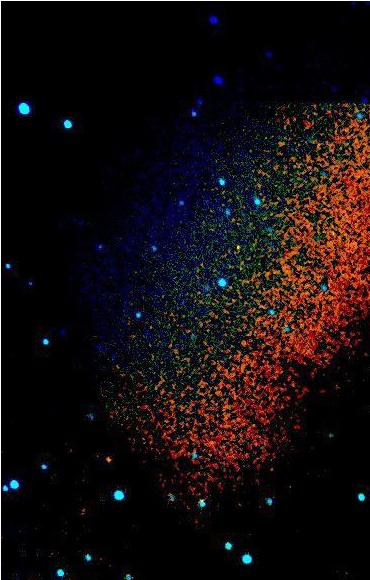star: (93, 444, 123, 474)
